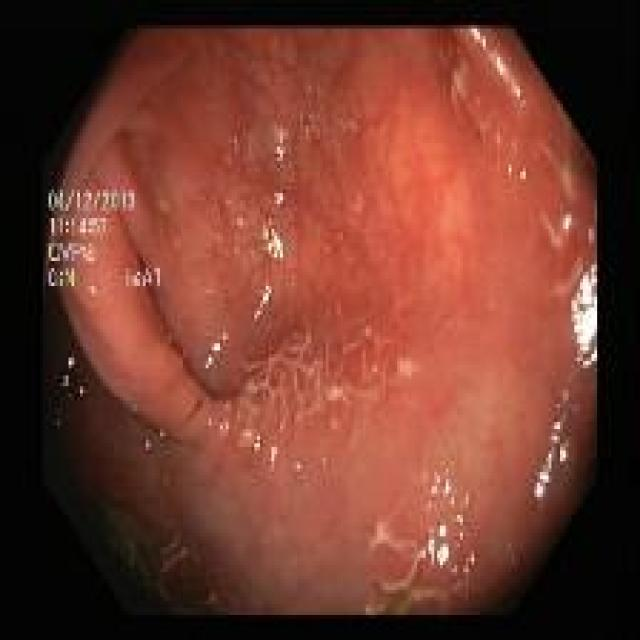ulcerative-colitis: (151, 33, 595, 612)
